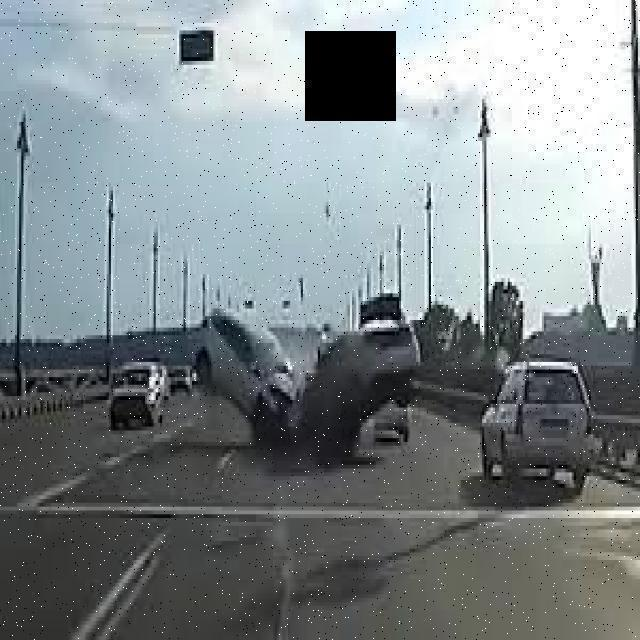accident: (190, 297, 424, 465)
